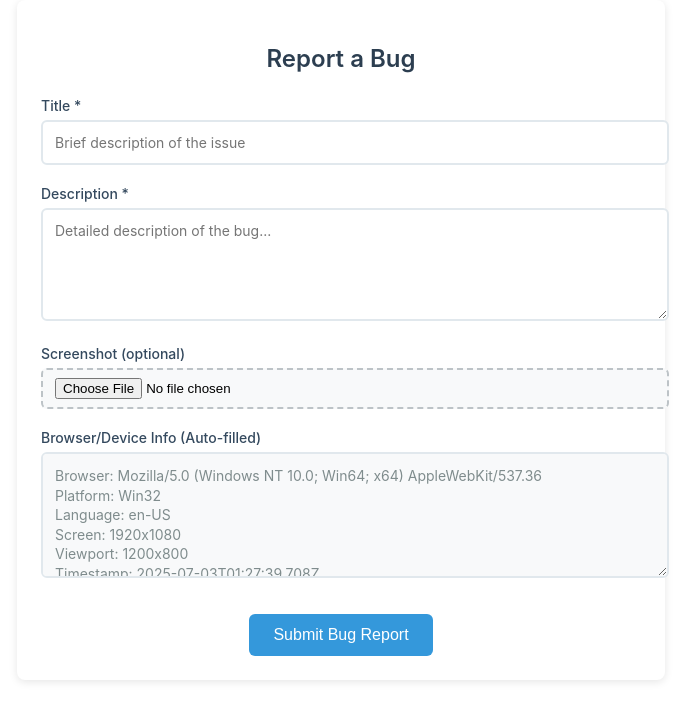
BugReportForm › Error State Handling › shows generic error message when API submission fails without specific error
Step 1. Type "Bug Title" into the field labelled "Title *" → [355, 142], box [41,120,669,165]
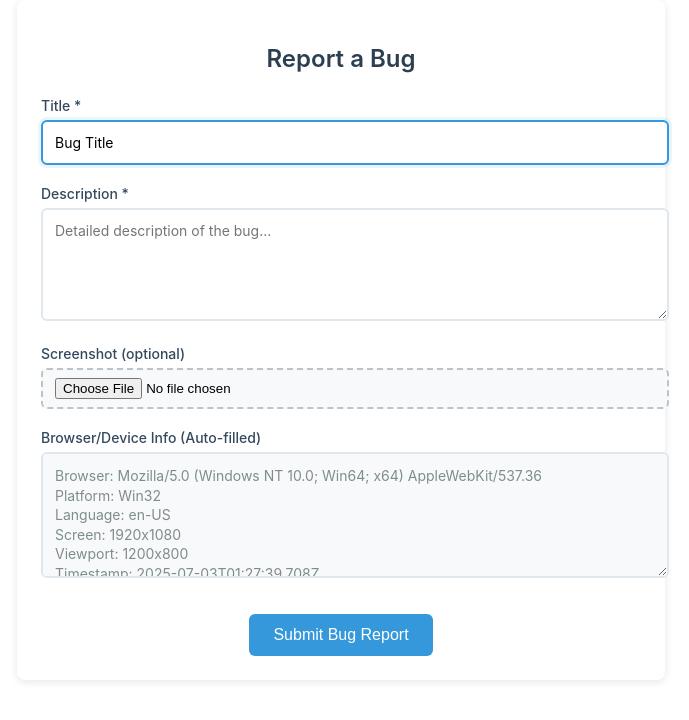
Step 2. Type "Bug Description" into the text box labelled "Description *" → [355, 264], box [41,208,669,321]
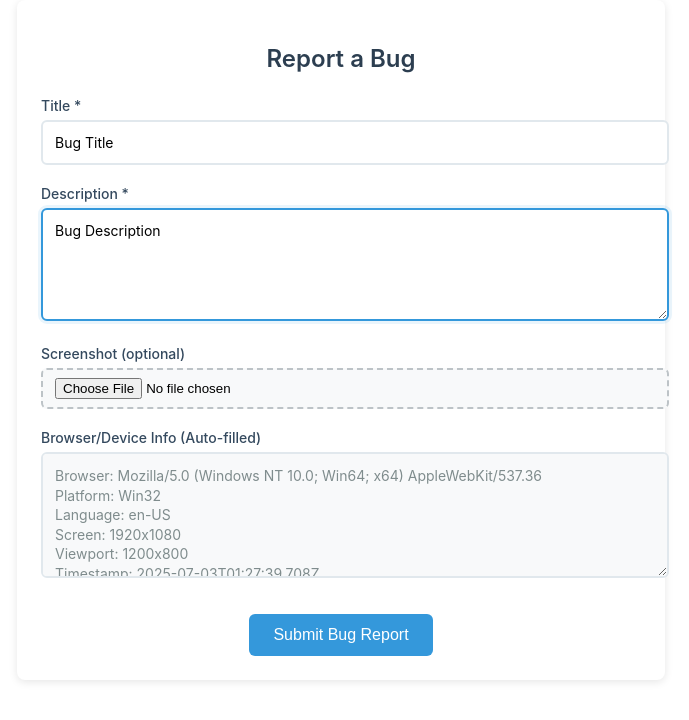
Step 3. Click the button "Submit Bug Report" → [341, 635], box [249,614,433,656]
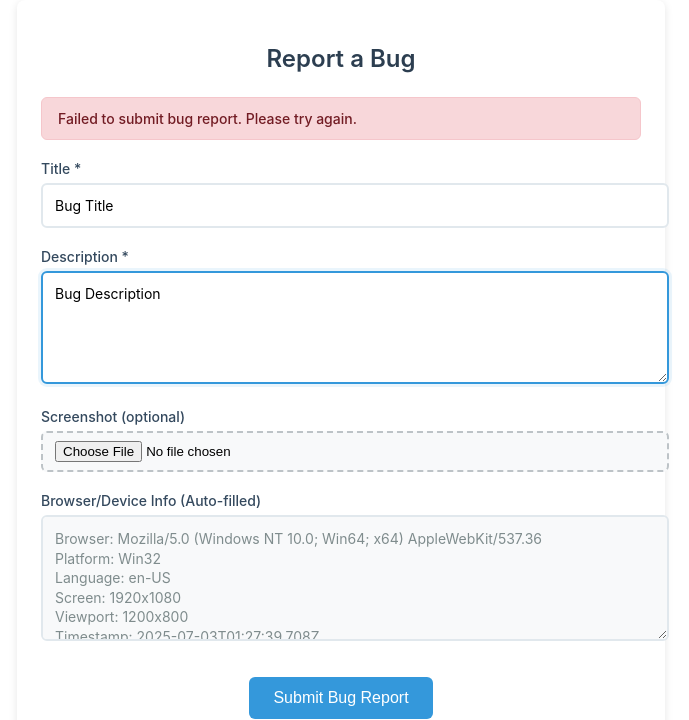
Expected: the text "Failed to submit bug report. Please try again." is shown, [41,97,641,140]
